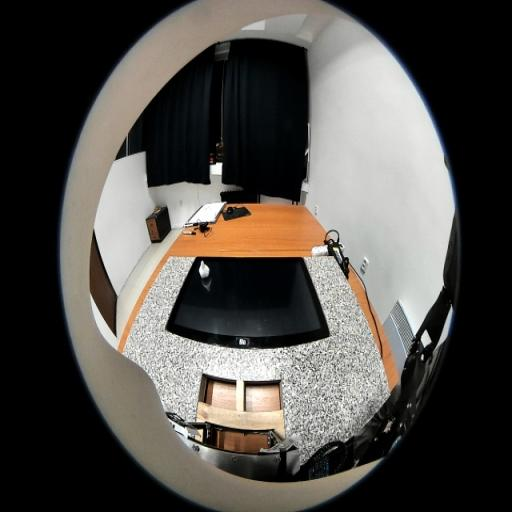Onion: (198, 260, 210, 279)
